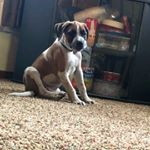puppy: (6, 17, 101, 108)
